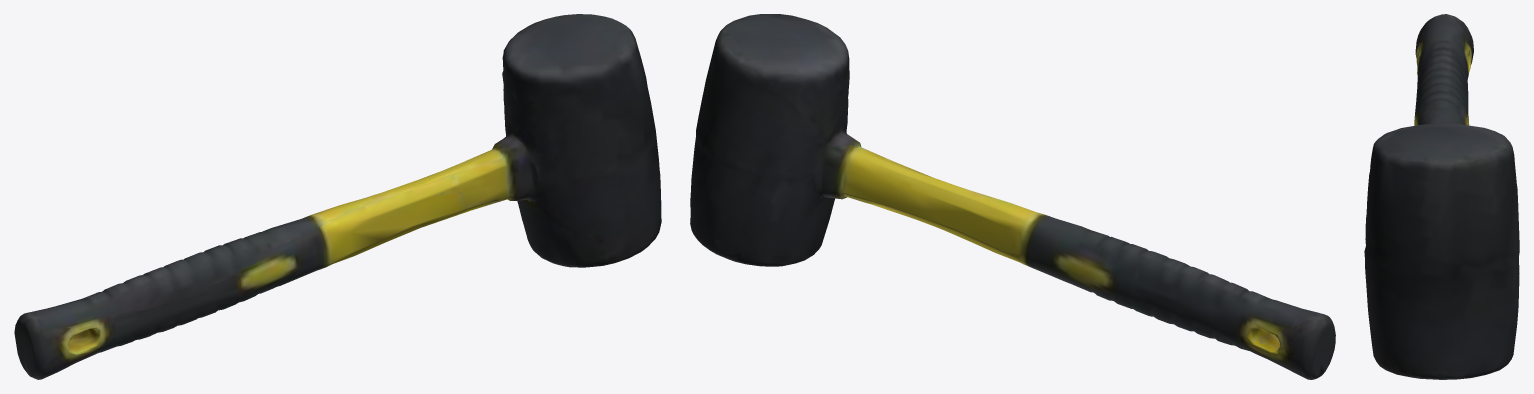
The model's file is Cole_Hardware_Hammer_Black-high.glb.
The picture shows the model from 3 angles, left to right: view 1: azimuth 30°, elevation 25°; view 2: azimuth 150°, elevation 25°; view 3: azimuth 270°, elevation 25°; orthographic projection. The views are drawn at different scales.
Parts seen in each view (by area): view 1: Cole_Hardware_Hammer_Black; view 2: Cole_Hardware_Hammer_Black; view 3: Cole_Hardware_Hammer_Black.
Part boxes in pixels (x1,y1,x2,y2): Cole_Hardware_Hammer_Black: [14, 14, 661, 379]; Cole_Hardware_Hammer_Black: [690, 14, 1335, 379]; Cole_Hardware_Hammer_Black: [1364, 14, 1519, 379].
Bounding box in the file's own units: 0.2917 × 0.096 × 0.06.
Materials: 1 (1 with a texture image).
